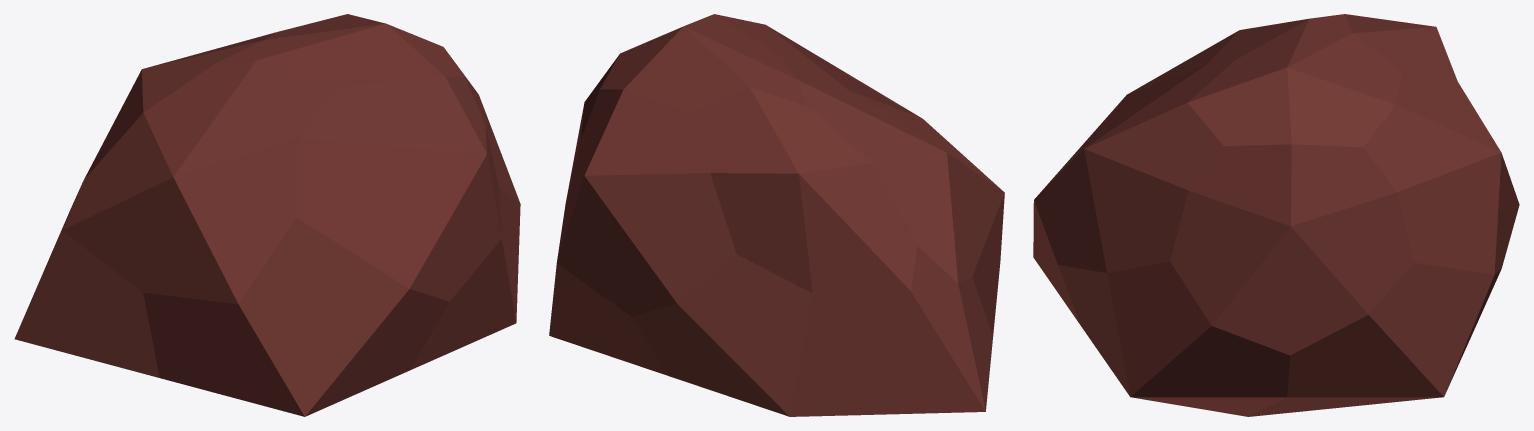
The model's file is Rock_1_Red.fbx.
3 views of the same model, side by side, from view 1: azimuth 30°, elevation 25°; view 2: azimuth 150°, elevation 25°; view 3: azimuth 270°, elevation 25° (orthographic). The views are drawn at different scales.
Parts seen in each view (by area): view 1: Rock_1_Red; view 2: Rock_1_Red; view 3: Rock_1_Red.
Part boxes in pixels (x1,y1,x2,y2): Rock_1_Red: (14, 14, 520, 416); Rock_1_Red: (549, 14, 1004, 416); Rock_1_Red: (1033, 14, 1519, 416).
Size of the model in its own units: 189 by 132 by 163.
